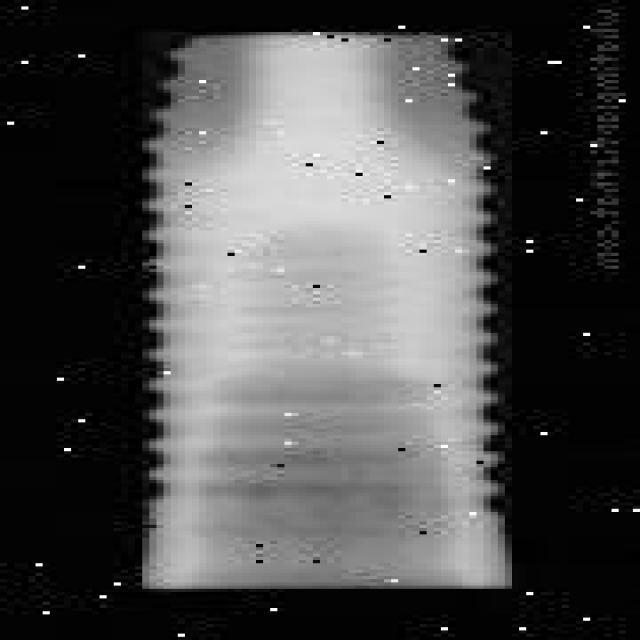Retained root: (139, 27, 512, 592)
